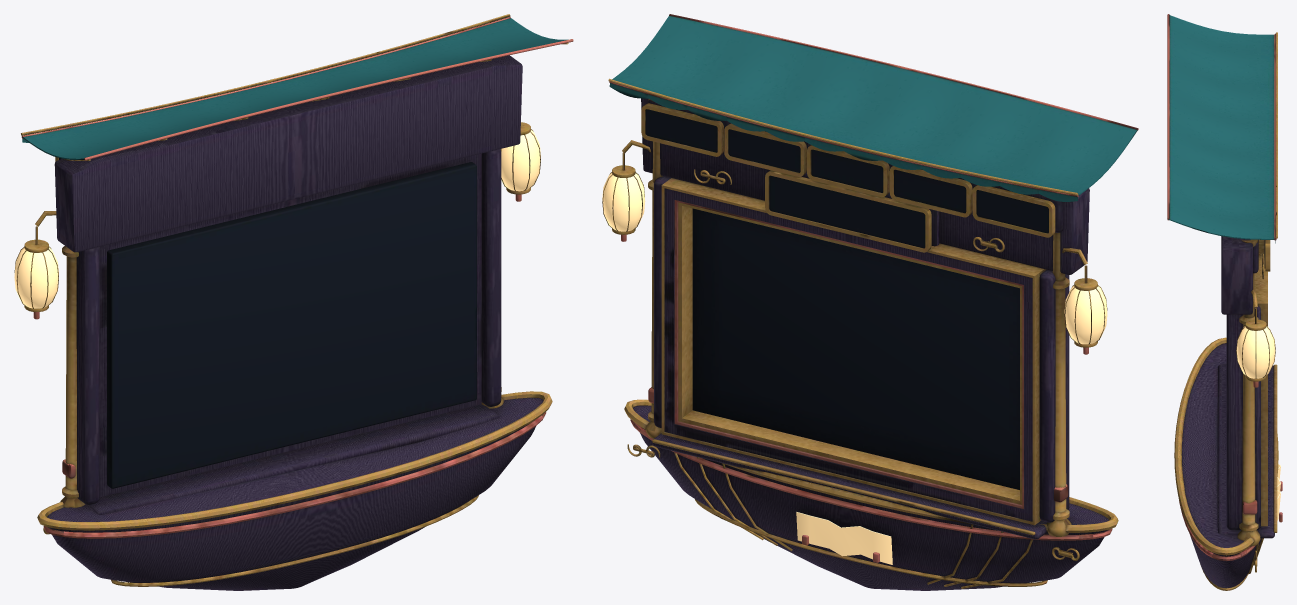
3 renders of one model, left to right at view 1: azimuth 30°, elevation 25°; view 2: azimuth 150°, elevation 25°; view 3: azimuth 270°, elevation 25°, orthographic. The views are drawn at different scales.
Visible parts, largest first — view 1: Violet_hull, Uniform_display_enamel, Woven_teal_canopy, Satin_ferry_brass, Coral_lacquer, Paper_glow; view 2: Uniform_display_enamel, Violet_hull, Woven_teal_canopy, Satin_ferry_brass, Coral_lacquer, Paper_glow; view 3: Woven_teal_canopy, Violet_hull, Satin_ferry_brass, Paper_glow, Coral_lacquer.
Boxes of the visible parts, left/top/right/bottom form: Violet_hull: left=47, top=55, right=543, bottom=590; Uniform_display_enamel: left=59, top=158, right=476, bottom=488; Woven_teal_canopy: left=22, top=18, right=567, bottom=159; Satin_ferry_brass: left=14, top=14, right=568, bottom=586; Coral_lacquer: left=21, top=17, right=573, bottom=538; Paper_glow: left=14, top=130, right=540, bottom=308; Uniform_display_enamel: left=645, top=109, right=1048, bottom=489; Violet_hull: left=633, top=98, right=1109, bottom=590; Woven_teal_canopy: left=609, top=15, right=1137, bottom=201; Satin_ferry_brass: left=602, top=78, right=1118, bottom=588; Coral_lacquer: left=609, top=14, right=1138, bottom=562; Paper_glow: left=602, top=173, right=1107, bottom=564; Woven_teal_canopy: left=1168, top=15, right=1275, bottom=243; Violet_hull: left=1181, top=236, right=1274, bottom=588; Satin_ferry_brass: left=1174, top=32, right=1278, bottom=590; Paper_glow: left=1236, top=326, right=1280, bottom=520; Coral_lacquer: left=1167, top=14, right=1282, bottom=560.
Bounding box in the file's own units: 10.16 × 9.6 × 2.27.
6 materials, 5 textured.
